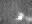person: (17, 14, 24, 21), (27, 18, 31, 22)
